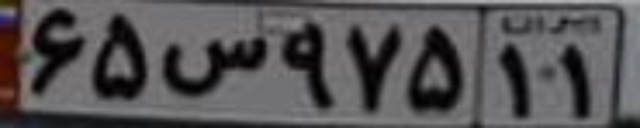1: (557, 41, 593, 120), (496, 42, 533, 118)
5: (404, 24, 462, 114), (87, 10, 143, 101)
6: (29, 7, 83, 94)
7: (343, 21, 400, 112)
9: (281, 20, 333, 108)
sin: (160, 33, 269, 96)
